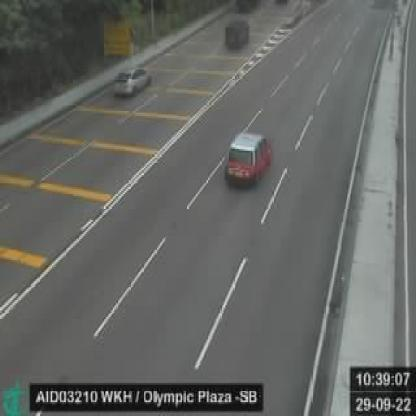Car: (220, 128, 277, 187), (112, 62, 154, 102), (222, 14, 258, 54)
